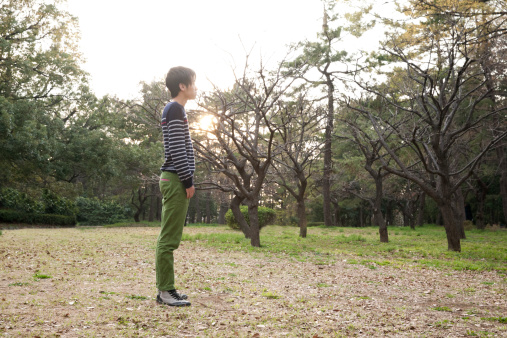em pe: (142, 67, 201, 302)
